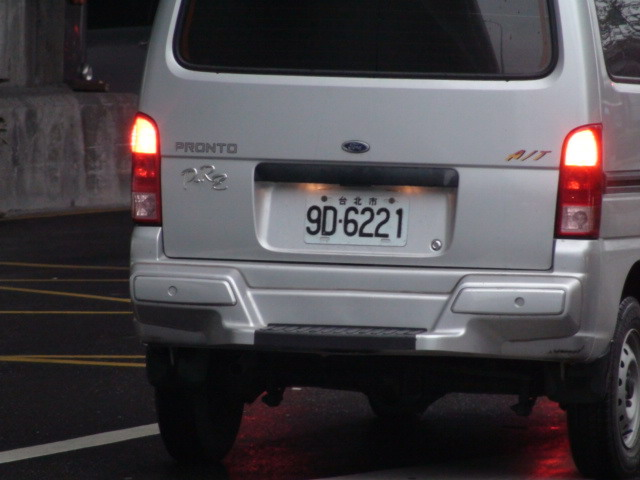plate: (303, 188, 410, 251)
